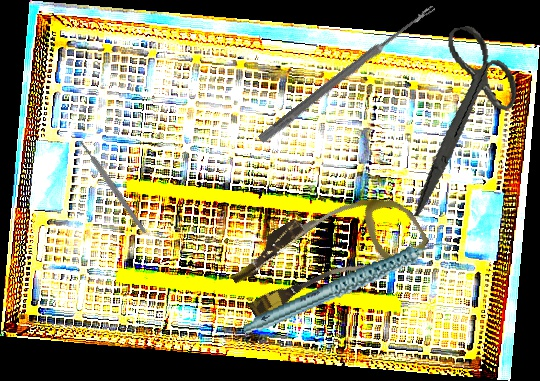Cannula: (222, 165, 432, 342)
Handpiece: (234, 238, 463, 335)
Iris Scissors: (381, 19, 537, 217)
Scalpel Handle: (78, 139, 148, 235)
Surgical Spoon: (257, 2, 437, 145)
